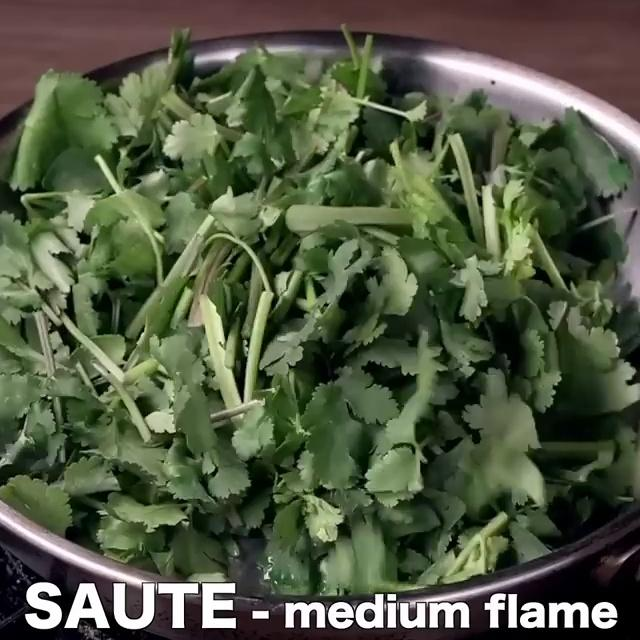cilantro: (0, 58, 616, 544)
